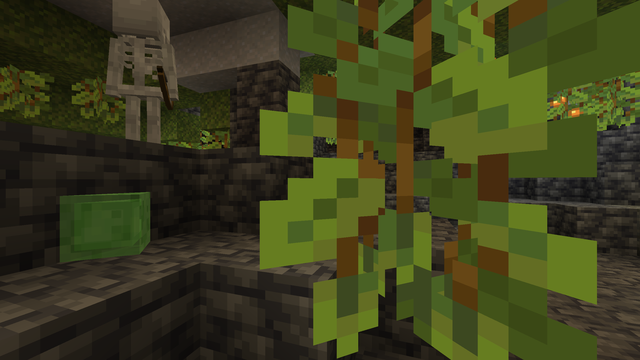slimes: (75, 189, 160, 261)
squelettes: (104, 1, 177, 122)
